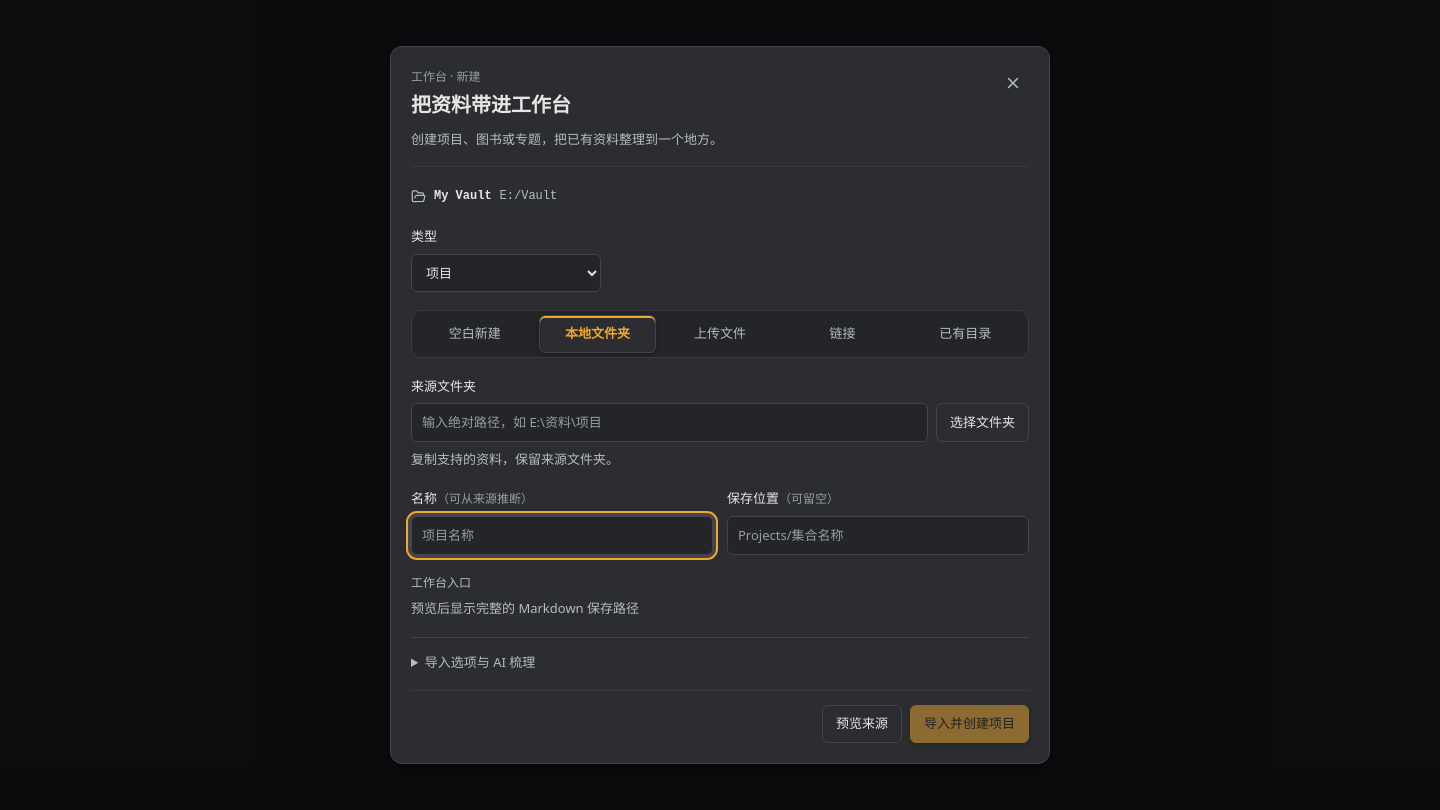
SourceImportModal › does not apply a delayed folder selection to another workspace
Click the button with test id "source-pick-folder" at {"x": 982, "y": 423}, box [936, 403, 1029, 442]
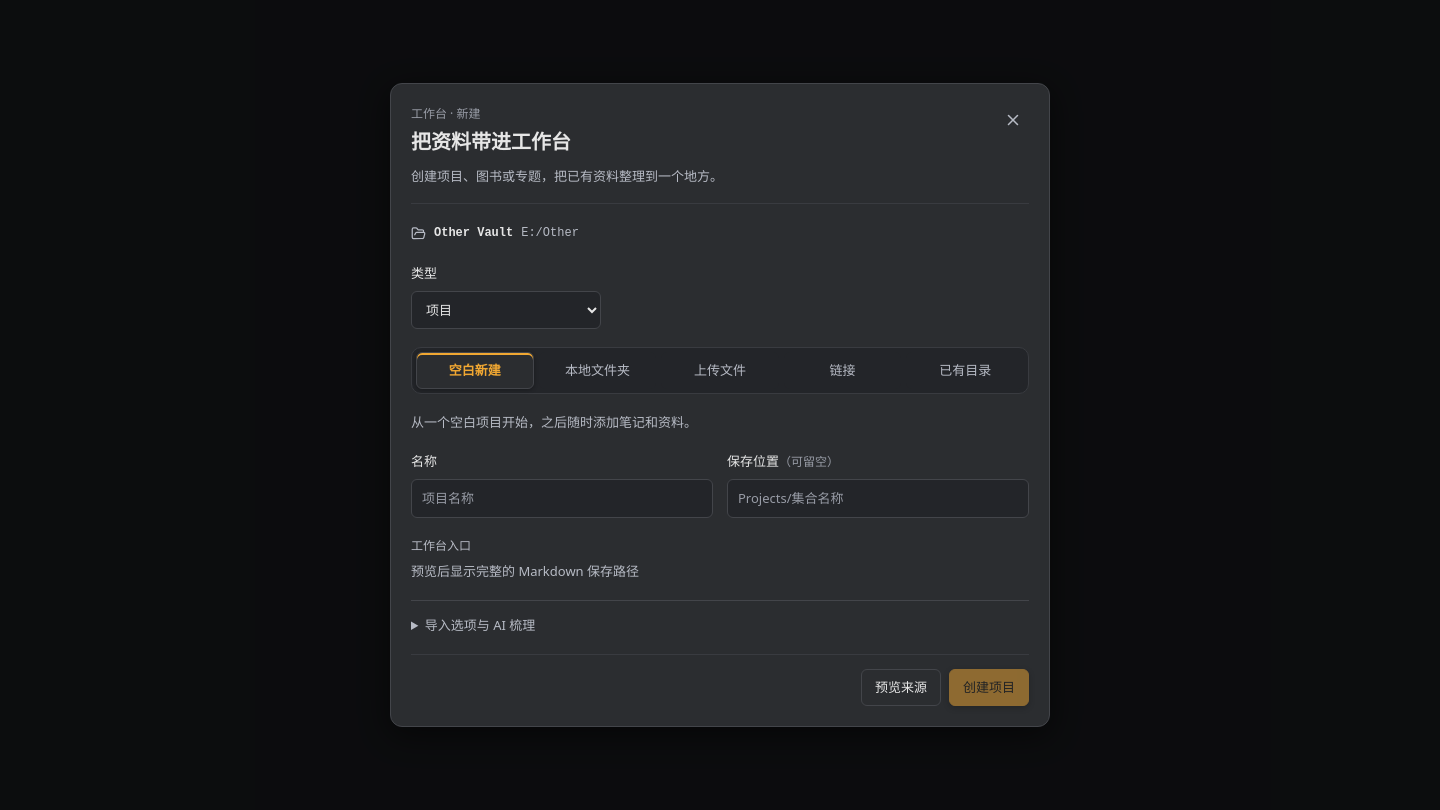
Now the text "Other Vault" is shown, box [434, 224, 513, 243]
